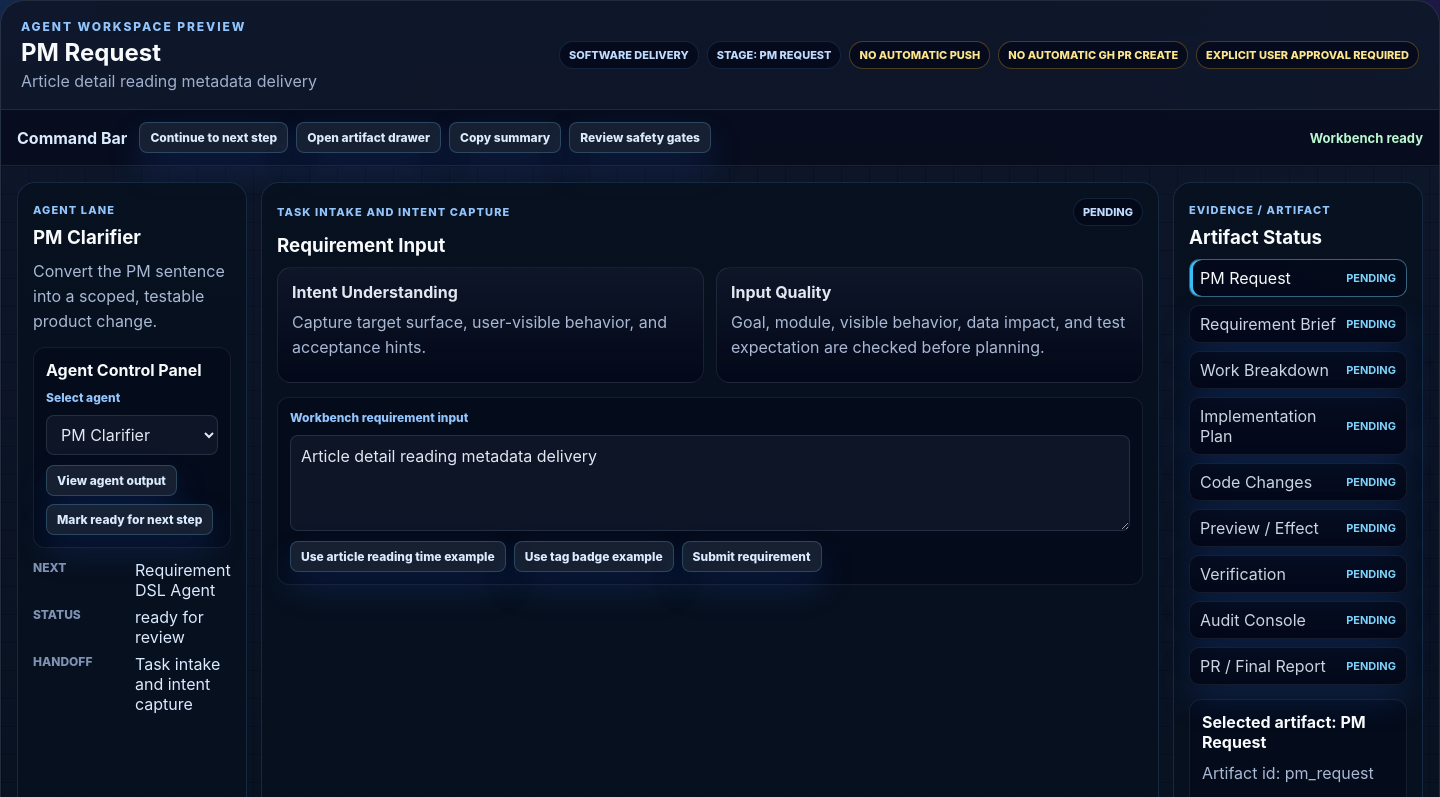
Test case: AI page team mechanism › renders PM Request stage controls
This screenshot has width=1440, height=797.
expect the text box labelled "Workbench requirement input" is shown: met, box [290,435,1130,531]
expect the button "Use article reading time example" is shown: met, box [290,541,506,572]
Click the button "Submit requirement". click: (752,556)
box: [682,541,822,572]
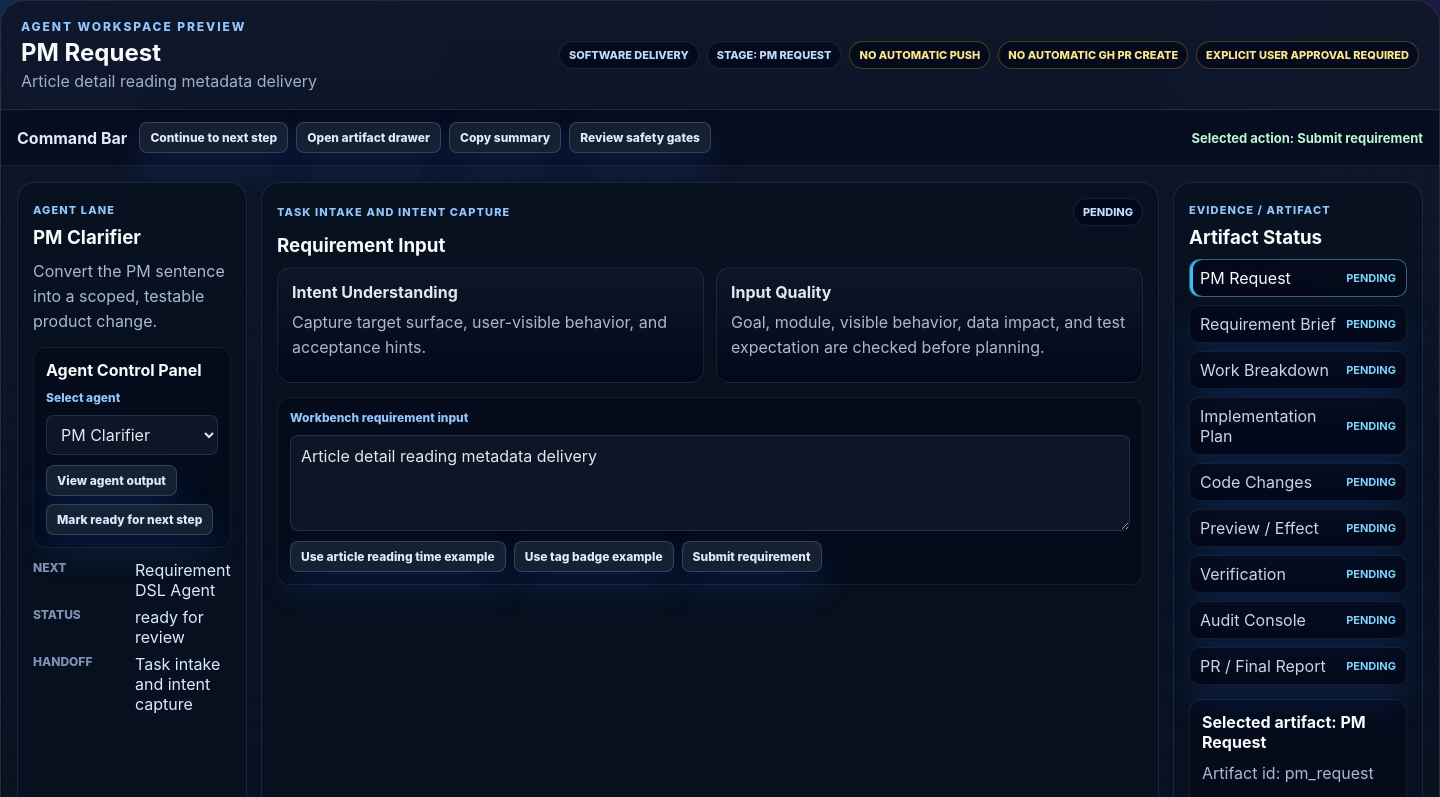
expect the text "Selected action: Submit requirement" is shown: met, box [1192,130,1423,146]
